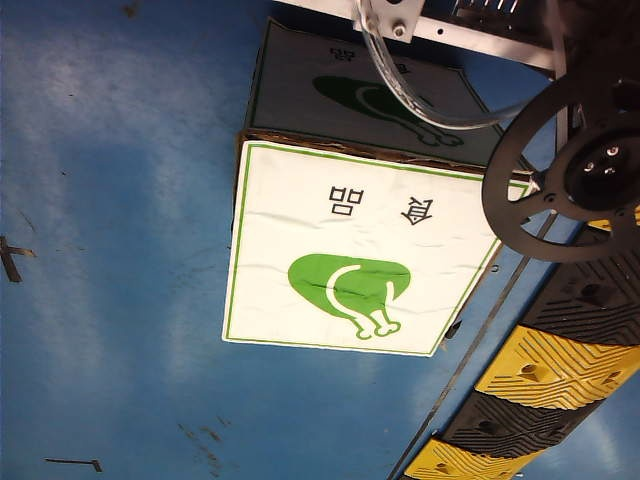Cube_food: (268, 168, 441, 351)
